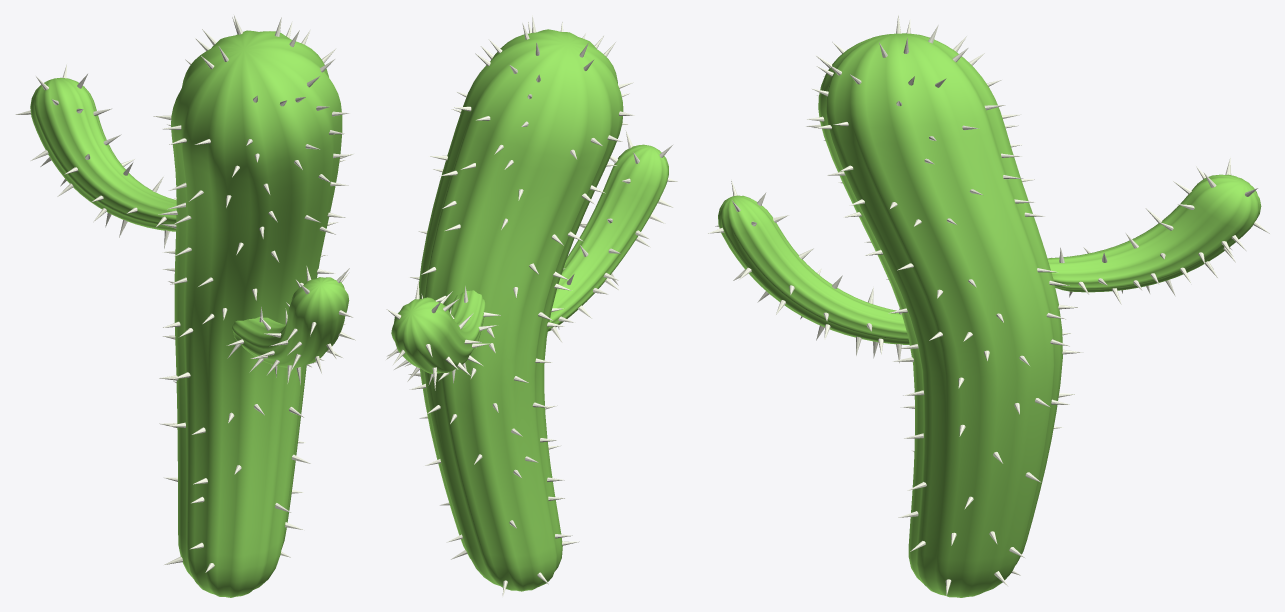
Rendered from Cactus02.fbx.
3 views of the same model, side by side, from view 1: azimuth 30°, elevation 25°; view 2: azimuth 150°, elevation 25°; view 3: azimuth 270°, elevation 25° (orthographic). The views are drawn at different scales.
Visible parts, largest first — view 1: cactus02; view 2: cactus02; view 3: cactus02.
Part boxes in pixels (box(x1,y1,x2,y2)): cactus02: box(15, 15, 355, 597); cactus02: box(386, 15, 677, 596); cactus02: box(707, 15, 1269, 597).
Size of the model in its own units: 80.44 by 237 by 213.
